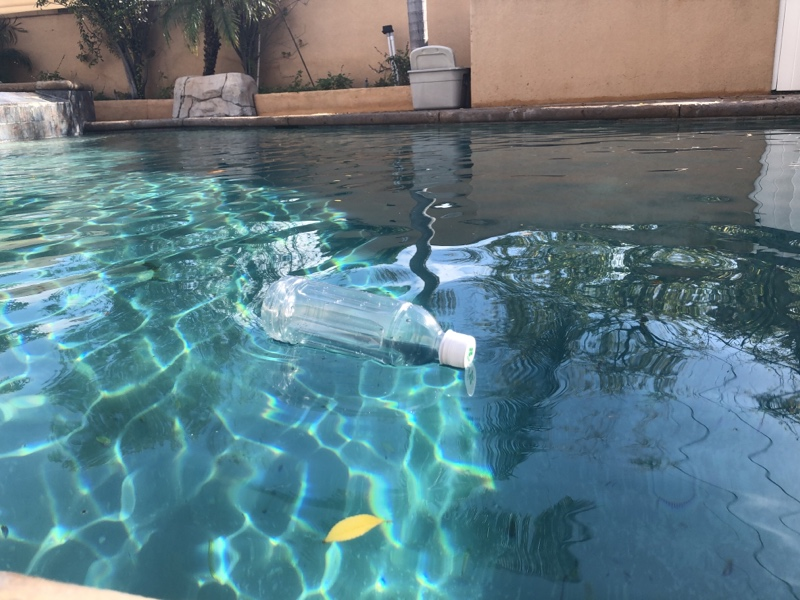Plastic Bottle: (258, 273, 481, 381)
